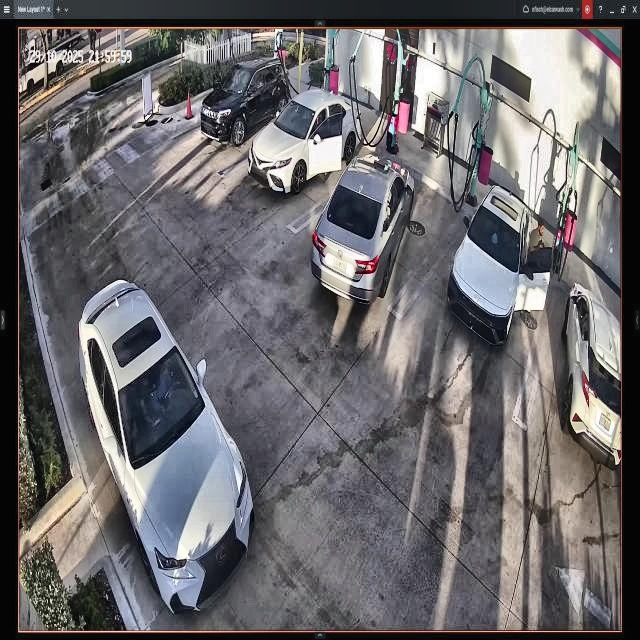Car: (78, 280, 256, 616), (448, 183, 552, 346), (311, 154, 415, 302), (251, 91, 362, 190), (201, 59, 290, 148)
